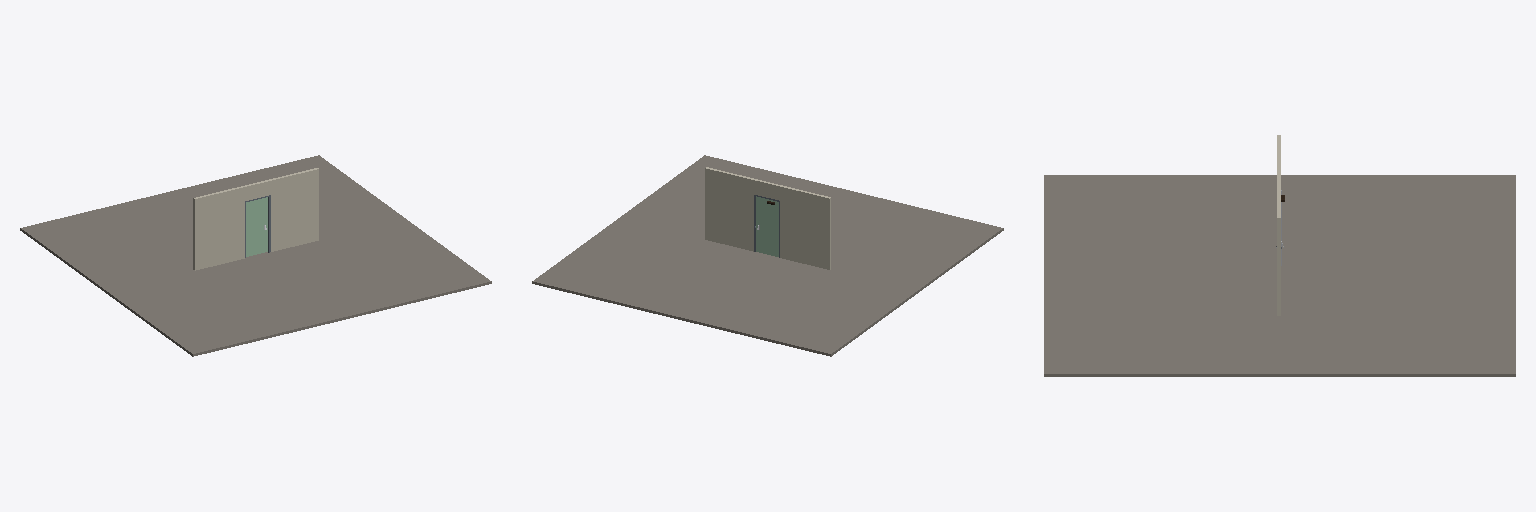
URDF robot description (db0660_swing_single_simple):
<?xml version="1.0" ?>
<robot xmlns:doorbench="https://github.com/adamraudonis/DoorBench/schema/urdf-ext" name="db0660_swing_single_simple">
  <link name="world_env">
    <visual name="floor_vis">
      <origin xyz="0 0 -0.05" rpy="0 0 0"/>
      <geometry>
        <box size="12 12 0.1"/>
      </geometry>
      <material name="mat_floor"/>
    </visual>
    <collision name="floor_col">
      <origin xyz="0 0 -0.05" rpy="0 0 0"/>
      <geometry>
        <box size="12 12 0.1"/>
      </geometry>
    </collision>
    <visual name="wall_left_vis">
      <origin xyz="-1.50525 -0.0285 1.3735" rpy="0 0 0"/>
      <geometry>
        <box size="1.9895 0.115 2.747"/>
      </geometry>
      <material name="mat_wall"/>
    </visual>
    <collision name="wall_left_col">
      <origin xyz="-1.50525 -0.0285 1.3735" rpy="0 0 0"/>
      <geometry>
        <box size="1.9895 0.115 2.747"/>
      </geometry>
    </collision>
    <visual name="wall_right_vis">
      <origin xyz="1.52025 -0.0285 1.3735" rpy="0 0 0"/>
      <geometry>
        <box size="1.9595 0.115 2.747"/>
      </geometry>
      <material name="mat_wall"/>
    </visual>
    <collision name="wall_right_col">
      <origin xyz="1.52025 -0.0285 1.3735" rpy="0 0 0"/>
      <geometry>
        <box size="1.9595 0.115 2.747"/>
      </geometry>
    </collision>
    <visual name="wall_header_vis">
      <origin xyz="0.015 -0.0285 2.487" rpy="0 0 0"/>
      <geometry>
        <box size="1.051 0.115 0.52"/>
      </geometry>
      <material name="mat_wall"/>
    </visual>
    <collision name="wall_header_col">
      <origin xyz="0.015 -0.0285 2.487" rpy="0 0 0"/>
      <geometry>
        <box size="1.051 0.115 0.52"/>
      </geometry>
    </collision>
    <visual name="jamb_hinge_vis">
      <origin xyz="-0.4855 -0.0285 1.0735" rpy="0 0 0"/>
      <geometry>
        <box size="0.05 0.115 2.147"/>
      </geometry>
      <material name="mat_frame"/>
    </visual>
    <collision name="jamb_hinge_col">
      <origin xyz="-0.4855 -0.0285 1.0735" rpy="0 0 0"/>
      <geometry>
        <box size="0.05 0.115 2.147"/>
      </geometry>
    </collision>
    <visual name="strike_965_wall_n_vis">
      <origin xyz="0.5005 -0.04775 0.965" rpy="0 0 0"/>
      <geometry>
        <box size="0.08 0.0765 0.0366"/>
      </geometry>
      <material name="mat_frame"/>
    </visual>
    <collision name="strike_965_wall_n_col">
      <origin xyz="0.5005 -0.04775 0.965" rpy="0 0 0"/>
      <geometry>
        <box size="0.08 0.0765 0.0366"/>
      </geometry>
    </collision>
    <visual name="strike_965_wall_p_vis">
      <origin xyz="0.5005 0.0175 0.965" rpy="0 0 0"/>
      <geometry>
        <box size="0.08 0.016 0.0366"/>
      </geometry>
      <material name="mat_frame"/>
    </visual>
    <collision name="strike_965_wall_p_col">
      <origin xyz="0.5005 0.0175 0.965" rpy="0 0 0"/>
      <geometry>
        <box size="0.08 0.016 0.0366"/>
      </geometry>
    </collision>
    <visual name="strike_965_ramp_vis">
      <origin xyz="0.503782 0.018312 0.965" rpy="0 0 -0.588003"/>
      <geometry>
        <box size="0.08 0.036056 0.0366"/>
      </geometry>
      <material name="mat_frame"/>
    </visual>
    <collision name="strike_965_ramp_col">
      <origin xyz="0.503782 0.018312 0.965" rpy="0 0 -0.588003"/>
      <geometry>
        <box size="0.08 0.036056 0.0366"/>
      </geometry>
    </collision>
    <visual name="strike_965_back_vis">
      <origin xyz="0.512 0 0.965" rpy="0 0 0"/>
      <geometry>
        <box size="0.057 0.019 0.0366"/>
      </geometry>
      <material name="mat_frame"/>
    </visual>
    <collision name="strike_965_back_col">
      <origin xyz="0.512 0 0.965" rpy="0 0 0"/>
      <geometry>
        <box size="0.057 0.019 0.0366"/>
      </geometry>
    </collision>
    <visual name="jamb_strike_0_vis">
      <origin xyz="0.5005 -0.0285 0.47335" rpy="0 0 0"/>
      <geometry>
        <box size="0.08 0.115 0.9467"/>
      </geometry>
      <material name="mat_frame"/>
    </visual>
    <collision name="jamb_strike_0_col">
      <origin xyz="0.5005 -0.0285 0.47335" rpy="0 0 0"/>
      <geometry>
        <box size="0.08 0.115 0.9467"/>
      </geometry>
    </collision>
    <visual name="jamb_strike_1_vis">
      <origin xyz="0.5005 -0.0285 1.56515" rpy="0 0 0"/>
      <geometry>
        <box size="0.08 0.115 1.1637"/>
      </geometry>
      <material name="mat_frame"/>
    </visual>
    <collision name="jamb_strike_1_col">
      <origin xyz="0.5005 -0.0285 1.56515" rpy="0 0 0"/>
      <geometry>
        <box size="0.08 0.115 1.1637"/>
      </geometry>
    </collision>
    <visual name="jamb_head_vis">
      <origin xyz="0.015 -0.0285 2.172" rpy="0 0 0"/>
      <geometry>
        <box size="1.051 0.115 0.05"/>
      </geometry>
      <material name="mat_frame"/>
    </visual>
    <collision name="jamb_head_col">
      <origin xyz="0.015 -0.0285 2.172" rpy="0 0 0"/>
      <geometry>
        <box size="1.051 0.115 0.05"/>
      </geometry>
    </collision>
    <visual name="head_stud_vis">
      <origin xyz="0.015 -0.0285 2.212" rpy="0 0 0"/>
      <geometry>
        <box size="1.051 0.115 0.03"/>
      </geometry>
      <material name="mat_wall"/>
    </visual>
    <collision name="head_stud_col">
      <origin xyz="0.015 -0.0285 2.212" rpy="0 0 0"/>
      <geometry>
        <box size="1.051 0.115 0.03"/>
      </geometry>
    </collision>
    <visual name="stop_hinge_vis">
      <origin xyz="-0.455 -0.0385 1.0735" rpy="0 0 0"/>
      <geometry>
        <box size="0.011 0.032 2.147"/>
      </geometry>
      <material name="mat_frame"/>
    </visual>
    <collision name="stop_hinge_col">
      <origin xyz="-0.455 -0.0385 1.0735" rpy="0 0 0"/>
      <geometry>
        <box size="0.011 0.032 2.147"/>
      </geometry>
    </collision>
    <visual name="stop_strike_vis">
      <origin xyz="0.455 -0.0385 1.0735" rpy="0 0 0"/>
      <geometry>
        <box size="0.011 0.032 2.147"/>
      </geometry>
      <material name="mat_frame"/>
    </visual>
    <collision name="stop_strike_col">
      <origin xyz="0.455 -0.0385 1.0735" rpy="0 0 0"/>
      <geometry>
        <box size="0.011 0.032 2.147"/>
      </geometry>
    </collision>
    <visual name="stop_head_vis">
      <origin xyz="0 -0.0385 2.1415" rpy="0 0 0"/>
      <geometry>
        <box size="0.921 0.032 0.011"/>
      </geometry>
      <material name="mat_frame"/>
    </visual>
    <collision name="stop_head_col">
      <origin xyz="0 -0.0385 2.1415" rpy="0 0 0"/>
      <geometry>
        <box size="0.921 0.032 0.011"/>
      </geometry>
    </collision>
  </link>
  <link name="leaf">
    <inertial>
      <origin xyz="0.411565 -0.014562 1.255035" rpy="0 0 0"/>
      <mass value="68.101934"/>
      <inertia ixx="30.726026583" ixy="0.137021518" ixz="1.421319966" iyy="35.215264111" iyz="-0.705301118" izz="4.634181292"/>
    </inertial>
    <visual name="leaf_slab_vis">
      <origin xyz="0.457 -0.029 1.076" rpy="0 0 0"/>
      <geometry>
        <box size="0.914 0.044 2.134"/>
      </geometry>
      <material name="mat_leaf"/>
    </visual>
    <collision name="leaf_slab_col">
      <origin xyz="0.457 -0.029 1.076" rpy="0 0 0"/>
      <geometry>
        <box size="0.914 0.044 2.134"/>
      </geometry>
    </collision>
    <visual name="hinge_continuous_vis">
      <origin xyz="0 0 1.076" rpy="0 0 0"/>
      <geometry>
        <cylinder radius="0.0136" length="2.114"/>
      </geometry>
      <material name="mat_hinge"/>
    </visual>
    <visual name="leaf_handle_paddle_backplate_n_vis">
      <origin xyz="0.802 -0.054 0.984895" rpy="0 0 0"/>
      <geometry>
        <box size="0.088 0.006 0.18"/>
      </geometry>
      <material name="mat_op_stainless"/>
    </visual>
    <collision name="leaf_handle_paddle_backplate_n_col">
      <origin xyz="0.802 -0.054 0.984895" rpy="0 0 0"/>
      <geometry>
        <box size="0.088 0.006 0.18"/>
      </geometry>
    </collision>
    <visual name="leaf_handle_paddle_bearing_n_-1_vis">
      <origin xyz="0.764 -0.063 1.047895" rpy="0 0 0"/>
      <geometry>
        <box size="0.01 0.012 0.018"/>
      </geometry>
      <material name="mat_op_stainless"/>
    </visual>
    <collision name="leaf_handle_paddle_bearing_n_-1_col">
      <origin xyz="0.764 -0.063 1.047895" rpy="0 0 0"/>
      <geometry>
        <box size="0.01 0.012 0.018"/>
      </geometry>
    </collision>
    <visual name="leaf_handle_paddle_bearing_n_1_vis">
      <origin xyz="0.84 -0.063 1.047895" rpy="0 0 0"/>
      <geometry>
        <box size="0.01 0.012 0.018"/>
      </geometry>
      <material name="mat_op_stainless"/>
    </visual>
    <collision name="leaf_handle_paddle_bearing_n_1_col">
      <origin xyz="0.84 -0.063 1.047895" rpy="0 0 0"/>
      <geometry>
        <box size="0.01 0.012 0.018"/>
      </geometry>
    </collision>
    <visual name="leaf_handle_paddle_pin_n_vis">
      <origin xyz="0.802 -0.069 1.047895" rpy="0 1.570796 0"/>
      <geometry>
        <cylinder radius="0.004" length="0.086"/>
      </geometry>
      <material name="mat_op_stainless"/>
    </visual>
    <visual name="leaf_handle_paddle_backplate_p_vis">
      <origin xyz="0.802 -0.004 0.984895" rpy="0 0 0"/>
      <geometry>
        <box size="0.088 0.006 0.18"/>
      </geometry>
      <material name="mat_op_stainless"/>
    </visual>
    <collision name="leaf_handle_paddle_backplate_p_col">
      <origin xyz="0.802 -0.004 0.984895" rpy="0 0 0"/>
      <geometry>
        <box size="0.088 0.006 0.18"/>
      </geometry>
    </collision>
    <visual name="leaf_handle_paddle_bearing_p_-1_vis">
      <origin xyz="0.764 0.005 1.047895" rpy="0 0 0"/>
      <geometry>
        <box size="0.01 0.012 0.018"/>
      </geometry>
      <material name="mat_op_stainless"/>
    </visual>
    <collision name="leaf_handle_paddle_bearing_p_-1_col">
      <origin xyz="0.764 0.005 1.047895" rpy="0 0 0"/>
      <geometry>
        <box size="0.01 0.012 0.018"/>
      </geometry>
    </collision>
    <visual name="leaf_handle_paddle_bearing_p_1_vis">
      <origin xyz="0.84 0.005 1.047895" rpy="0 0 0"/>
      <geometry>
        <box size="0.01 0.012 0.018"/>
      </geometry>
      <material name="mat_op_stainless"/>
    </visual>
    <collision name="leaf_handle_paddle_bearing_p_1_col">
      <origin xyz="0.84 0.005 1.047895" rpy="0 0 0"/>
      <geometry>
        <box size="0.01 0.012 0.018"/>
      </geometry>
    </collision>
    <visual name="leaf_handle_paddle_pin_p_vis">
      <origin xyz="0.802 0.011 1.047895" rpy="0 1.570796 0"/>
      <geometry>
        <cylinder radius="0.004" length="0.086"/>
      </geometry>
      <material name="mat_op_stainless"/>
    </visual>
    <visual name="leaf_latch_bolt_faceplate_vis">
      <origin xyz="0.9134 -0.029 0.965" rpy="0 0 0"/>
      <geometry>
        <box size="0.0012 0.028 0.0566"/>
      </geometry>
      <material name="mat_bolt"/>
    </visual>
    <visual name="closer_body_vis">
      <origin xyz="0.297 -0.007 2.054" rpy="-1.570796 0 0"/>
      <geometry>
        <mesh filename="../../hardware/closer_body_fdc4667657.obj"/>
      </geometry>
      <material name="mat_closer"/>
    </visual>
    <collision name="closer_body_col_col">
      <origin xyz="0.297 0.043 2.054" rpy="0 0 0"/>
      <geometry>
        <box size="0.29 0.1 0.07"/>
      </geometry>
    </collision>
  </link>
  <link name="leaf_handle">
    <inertial>
      <origin xyz="0 -0.031074 -0.073496" rpy="0 0 0"/>
      <mass value="0.333798"/>
      <inertia ixx="0.00062862" ixy="0" ixz="0" iyy="0.000632458" iyz="-0.000222659" izz="0.000199959"/>
    </inertial>
    <visual name="leaf_handle_paddle_col_n_vis">
      <origin xyz="0 -0.035048 -0.082895" rpy="-0.4 0 0"/>
      <geometry>
        <box size="0.064 0.012 0.126"/>
      </geometry>
      <material name="mat_op_stainless"/>
    </visual>
    <collision name="leaf_handle_paddle_col_n_col">
      <origin xyz="0 -0.035048 -0.082895" rpy="-0.4 0 0"/>
      <geometry>
        <box size="0.064 0.012 0.126"/>
      </geometry>
    </collision>
    <visual name="leaf_handle_paddle_neck_n_vis">
      <origin xyz="0 -0.008178 -0.019342" rpy="-0.4 0 0"/>
      <geometry>
        <box size="0.024 0.008 0.042"/>
      </geometry>
      <material name="mat_op_stainless"/>
    </visual>
    <collision name="leaf_handle_paddle_neck_n_col">
      <origin xyz="0 -0.008178 -0.019342" rpy="-0.4 0 0"/>
      <geometry>
        <box size="0.024 0.008 0.042"/>
      </geometry>
    </collision>
    <visual name="leaf_handle_paddle_hub_n_vis">
      <origin xyz="0 0 0" rpy="0 1.570796 0"/>
      <geometry>
        <cylinder radius="0.008" length="0.032"/>
      </geometry>
      <material name="mat_op_stainless"/>
    </visual>
  </link>
  <link name="leaf_handle_paddle_follower_p">
    <inertial>
      <origin xyz="0 0.031074 -0.073496" rpy="0 0 0"/>
      <mass value="0.333798"/>
      <inertia ixx="0.00062862" ixy="0" ixz="0" iyy="0.000632458" iyz="0.000222659" izz="0.000199959"/>
    </inertial>
    <visual name="leaf_handle_paddle_col_p_vis">
      <origin xyz="0 0.035048 -0.082895" rpy="0.4 0 0"/>
      <geometry>
        <box size="0.064 0.012 0.126"/>
      </geometry>
      <material name="mat_op_stainless"/>
    </visual>
    <collision name="leaf_handle_paddle_col_p_col">
      <origin xyz="0 0.035048 -0.082895" rpy="0.4 0 0"/>
      <geometry>
        <box size="0.064 0.012 0.126"/>
      </geometry>
    </collision>
    <visual name="leaf_handle_paddle_neck_p_vis">
      <origin xyz="0 0.008178 -0.019342" rpy="0.4 0 0"/>
      <geometry>
        <box size="0.024 0.008 0.042"/>
      </geometry>
      <material name="mat_op_stainless"/>
    </visual>
    <collision name="leaf_handle_paddle_neck_p_col">
      <origin xyz="0 0.008178 -0.019342" rpy="0.4 0 0"/>
      <geometry>
        <box size="0.024 0.008 0.042"/>
      </geometry>
    </collision>
    <visual name="leaf_handle_paddle_hub_p_vis">
      <origin xyz="0 0 0" rpy="0 1.570796 0"/>
      <geometry>
        <cylinder radius="0.008" length="0.032"/>
      </geometry>
      <material name="mat_op_stainless"/>
    </visual>
  </link>
  <link name="leaf_latch_bolt">
    <inertial>
      <origin xyz="-0.0055 0 0" rpy="0 0 0"/>
      <mass value="0.074627"/>
      <inertia ixx="0.000002271" ixy="0" ixz="0" iyy="0.000013255" iyz="0" izz="0.000013255"/>
    </inertial>
    <visual name="leaf_latch_bolt_capsule_vis">
      <origin xyz="-0.0055 0 0" rpy="0 1.570796 0"/>
      <geometry>
        <cylinder radius="0.008" length="0.033"/>
      </geometry>
      <material name="mat_bolt"/>
    </visual>
    <collision name="leaf_latch_bolt_capsule_col">
      <origin xyz="-0.0055 0 0" rpy="0 1.570796 0"/>
      <geometry>
        <cylinder radius="0.008" length="0.033"/>
      </geometry>
    </collision>
  </link>
  <joint name="leaf_hinge" type="revolute">
    <origin xyz="-0.4575 0.029 0" rpy="0 0 0"/>
    <parent link="world_env"/>
    <child link="leaf"/>
    <axis xyz="0 0 1"/>
    <limit lower="0" upper="1.570796" effort="2000" velocity="10"/>
    <dynamics damping="12.268966" friction="1.742419"/>
    <doorbench:spring stiffness="15.011494" springref="-1.939847" note="tau = -stiffness*(q - springref); not native URDF"/>
    <doorbench:closer damping_closing="90" damping_opening="12" backcheck_angle="1.22" backcheck_damping="60"/>
  </joint>
  <joint name="leaf_handle_hinge" type="revolute">
    <origin xyz="0.802 -0.069 1.047895" rpy="0 0 0"/>
    <parent link="leaf"/>
    <child link="leaf_handle"/>
    <axis xyz="1 0 0"/>
    <limit lower="0" upper="0.4" effort="2000" velocity="10"/>
    <dynamics damping="0.27663" friction="0.056"/>
    <doorbench:spring stiffness="1.5" springref="-1" note="tau = -stiffness*(q - springref); not native URDF"/>
    <doorbench:note text="Face-mounted rocker; ideal cam drives latch"/>
  </joint>
  <joint name="leaf_handle_paddle_follower_p_hinge" type="revolute">
    <origin xyz="0.802 0.011 1.047895" rpy="0 0 0"/>
    <parent link="leaf"/>
    <child link="leaf_handle_paddle_follower_p"/>
    <axis xyz="1 0 0"/>
    <limit lower="0" upper="0.4" effort="2000" velocity="10"/>
    <dynamics damping="0" friction="0"/>
    <doorbench:note text="Face-mounted rocker; ideal cam drives latch"/>
    <mimic joint="leaf_handle_hinge" multiplier="1" offset="0"/>
  </joint>
  <joint name="leaf_latch_bolt_slide" type="prismatic">
    <origin xyz="0.914 -0.029 0.965" rpy="0 0 0"/>
    <parent link="leaf"/>
    <child link="leaf_latch_bolt"/>
    <axis xyz="-1 0 0"/>
    <limit lower="0" upper="0.019" effort="5000" velocity="10"/>
    <dynamics damping="2" friction="0.3"/>
    <doorbench:spring stiffness="600" springref="-0.01" note="tau = -stiffness*(q - springref); not native URDF"/>
    <mimic joint="leaf_handle_hinge" multiplier="0.051351" offset="0"/>
    <doorbench:coupling one_sided="true" note="MJCF uses a one-sided tendon (bolt may retract further, e.g. riding over the strike lip); mimic is bilateral"/>
  </joint>
  <material name="mat_bolt">
    <color rgba="0.85 0.66 0.3 1"/>
  </material>
  <material name="mat_closer">
    <color rgba="0.22 0.17 0.13 1"/>
  </material>
  <material name="mat_floor">
    <color rgba="0.55 0.53 0.5 1"/>
  </material>
  <material name="mat_frame">
    <color rgba="0.45 0.48 0.52 1"/>
  </material>
  <material name="mat_hinge">
    <color rgba="0.65 0.66 0.68 1"/>
  </material>
  <material name="mat_leaf">
    <color rgba="0.65 0.78 0.68 1"/>
  </material>
  <material name="mat_op_stainless">
    <color rgba="0.75 0.76 0.77 1"/>
  </material>
  <material name="mat_wall">
    <color rgba="0.78 0.76 0.7 1"/>
  </material>
</robot>

--- Render facts (derived) ---
Views: 3 orthographic renders of the robot side by side, from view 1: azimuth 30°, elevation 25°; view 2: azimuth 150°, elevation 25°; view 3: azimuth 270°, elevation 25°.
Model db0660_swing_single_simple with 5 links and 4 joints (3 revolute, 1 prismatic), rooted at world_env, posed all joints at 0.
Visible links, largest first — view 1: world_env, leaf; view 2: world_env, leaf; view 3: world_env.
Boxes of the visible links, x1,y1,x2,y2 form: world_env: (20,155,491,356); leaf: (246,197,267,256); world_env: (532,155,1003,356); leaf: (756,196,778,256); world_env: (1044,135,1515,376).
Size in the robot's own frame: 12 by 12 by 2.85 metres.
Meshes: 1 distinct files referenced, 1 mesh visuals loaded (1 OBJ).
